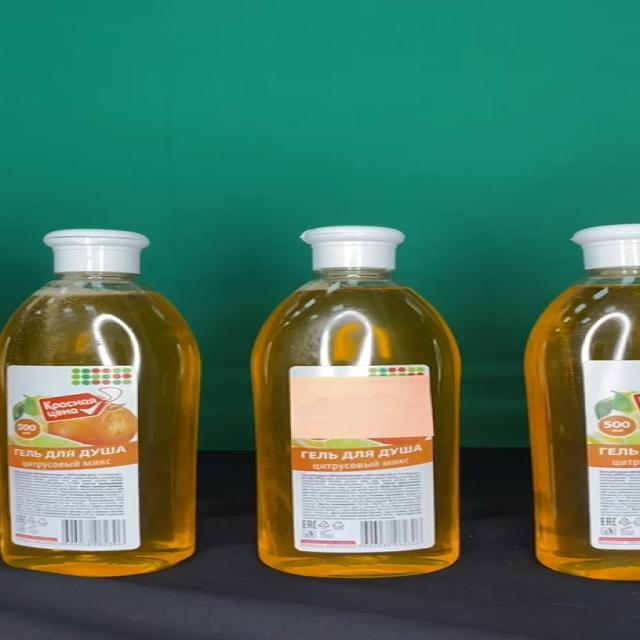Bottle: (252, 226, 462, 577), (0, 229, 203, 577)
Cap: (301, 226, 407, 270), (44, 229, 150, 272)
